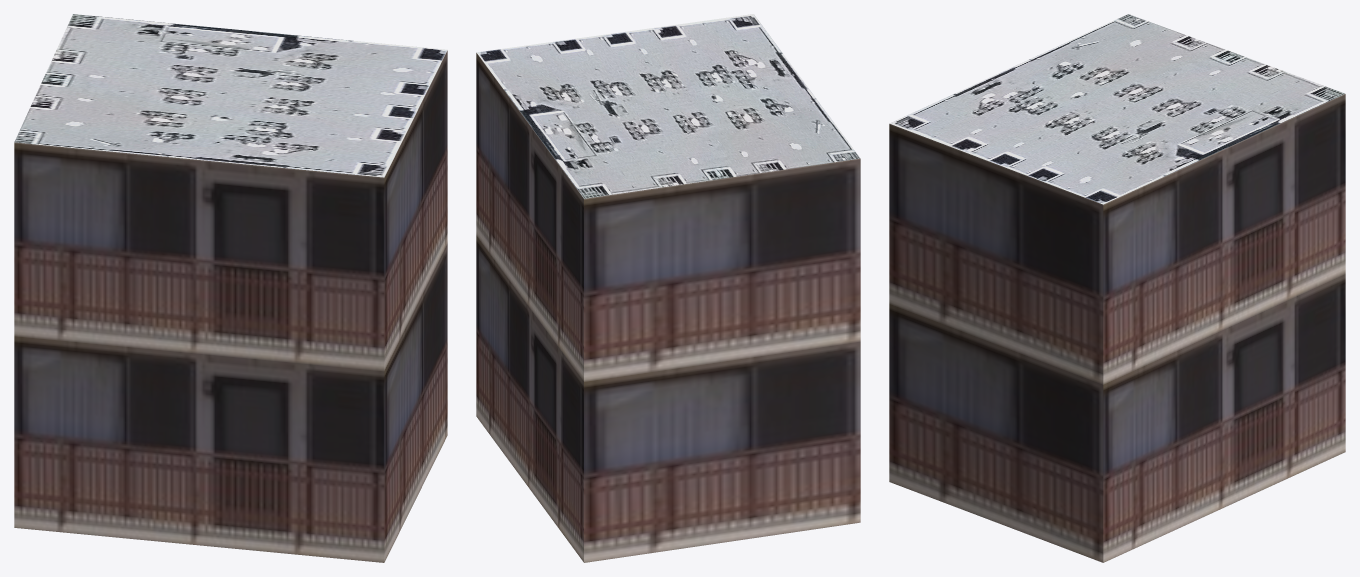
The model's file is ResTex__3394.fbx.
3 views of the same model, side by side, from view 1: azimuth 30°, elevation 25°; view 2: azimuth 150°, elevation 25°; view 3: azimuth 270°, elevation 25° (orthographic). The views are drawn at different scales.
Visible parts, largest first — view 1: CityEngineMaterial_6_m, CityEngineMaterial_4_m; view 2: CityEngineMaterial_6_m, CityEngineMaterial_4_m; view 3: CityEngineMaterial_6_m, CityEngineMaterial_4_m.
Boxes of the visible parts, <box> form: CityEngineMaterial_6_m: <box>14,50,447,562</box>; CityEngineMaterial_4_m: <box>14,14,447,177</box>; CityEngineMaterial_6_m: <box>476,53,860,562</box>; CityEngineMaterial_4_m: <box>476,14,860,198</box>; CityEngineMaterial_6_m: <box>889,94,1345,562</box>; CityEngineMaterial_4_m: <box>889,14,1345,204</box>.
Bounding box in the file's own units: 6.85 × 6 × 6.93.
Materials: 2 (2 with a texture image).
